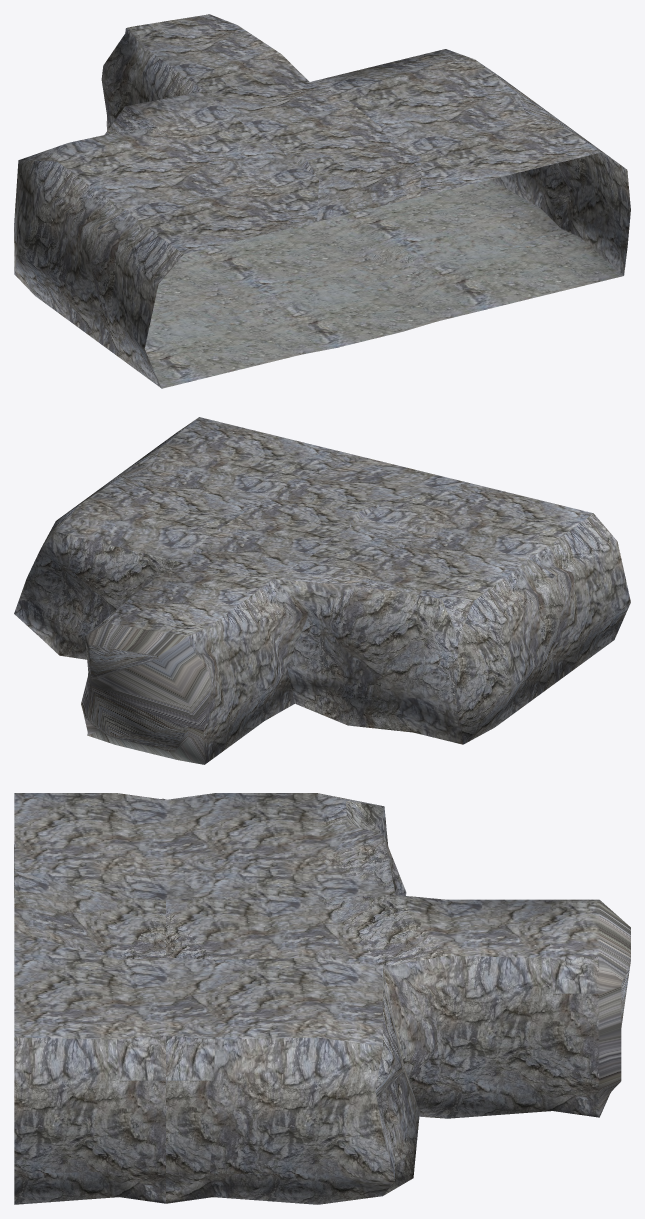
The model's file is room2.fbx.
3 views of the same model, one above another, from view 1: azimuth 30°, elevation 25°; view 2: azimuth 150°, elevation 25°; view 3: azimuth 270°, elevation 25° (orthographic). The views are drawn at different scales.
Parts seen in each view (by area): view 1: Mine_08; view 2: Mine_08; view 3: Mine_08.
Boxes of the visible parts, x1=… form: Mine_08: x1=14, y1=14, x2=630, y2=388; Mine_08: x1=14, y1=417, x2=630, y2=764; Mine_08: x1=14, y1=793, x2=630, y2=1204.
Size of the model in its own units: 1307 by 360 by 1178.
2 materials, 2 textured.
